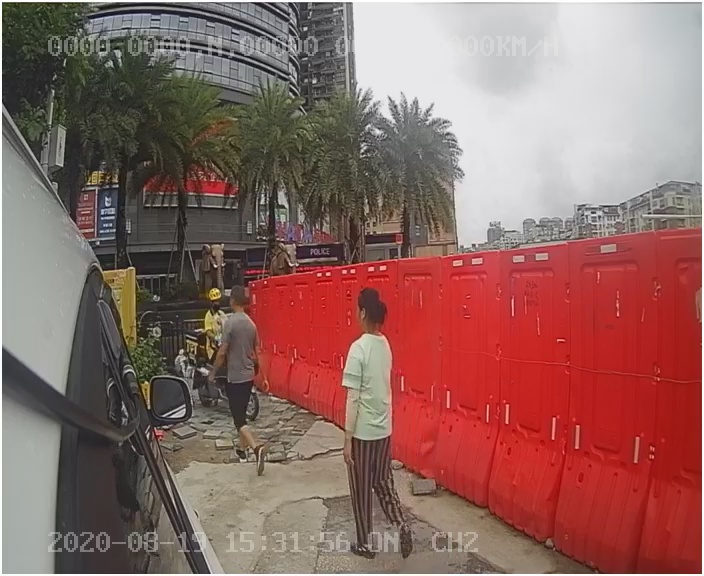person: (319, 285, 428, 560), (205, 291, 291, 476)
